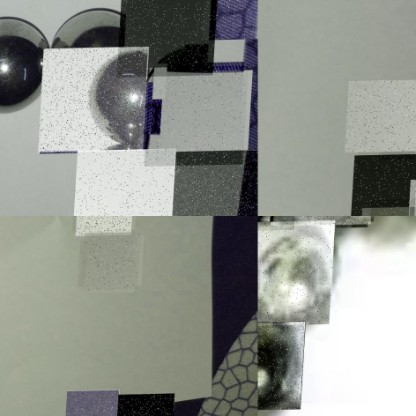ironball: (40, 47, 150, 153), (146, 66, 250, 167), (257, 220, 337, 326), (118, 0, 219, 78), (76, 149, 178, 215), (175, 150, 257, 215), (347, 81, 415, 153), (0, 14, 51, 110), (257, 321, 308, 410), (353, 155, 415, 215), (82, 233, 141, 291), (52, 5, 132, 46), (67, 390, 122, 415), (76, 215, 134, 237), (119, 394, 178, 415), (257, 215, 298, 230)
